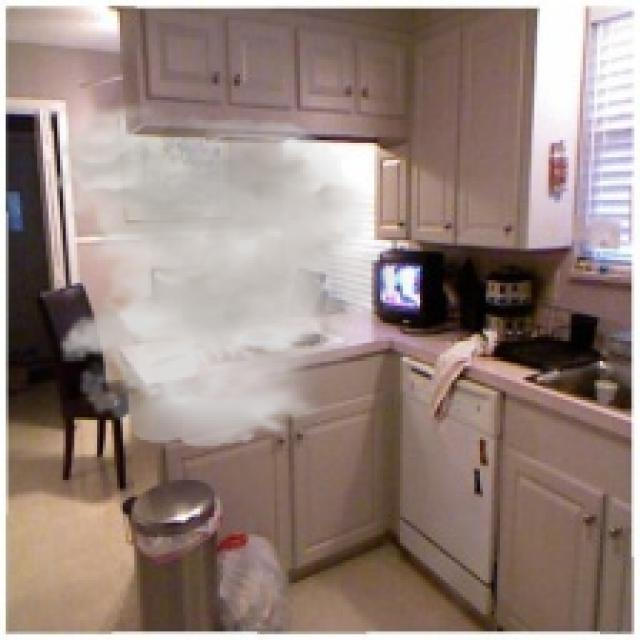smoke: (49, 103, 417, 448)
